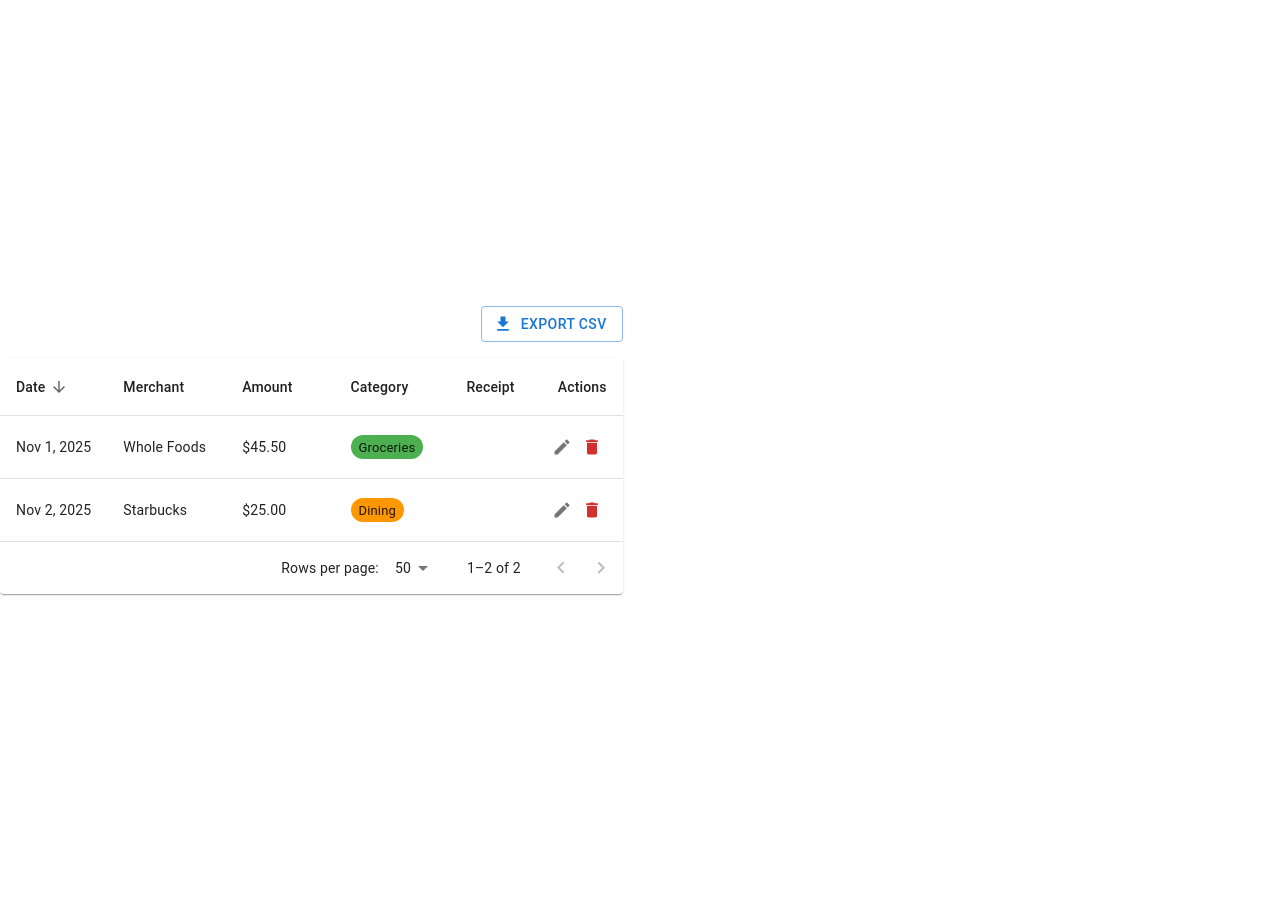
Scenario: ExpenseList › handles delete button click and confirmation
Expected: the text "Whole Foods" is shown, [107, 416, 226, 479]
// Click delete button
Click the button titled "Delete expense" in the row of "Nov 1, 2025" at (592, 447), box [577, 432, 607, 462]
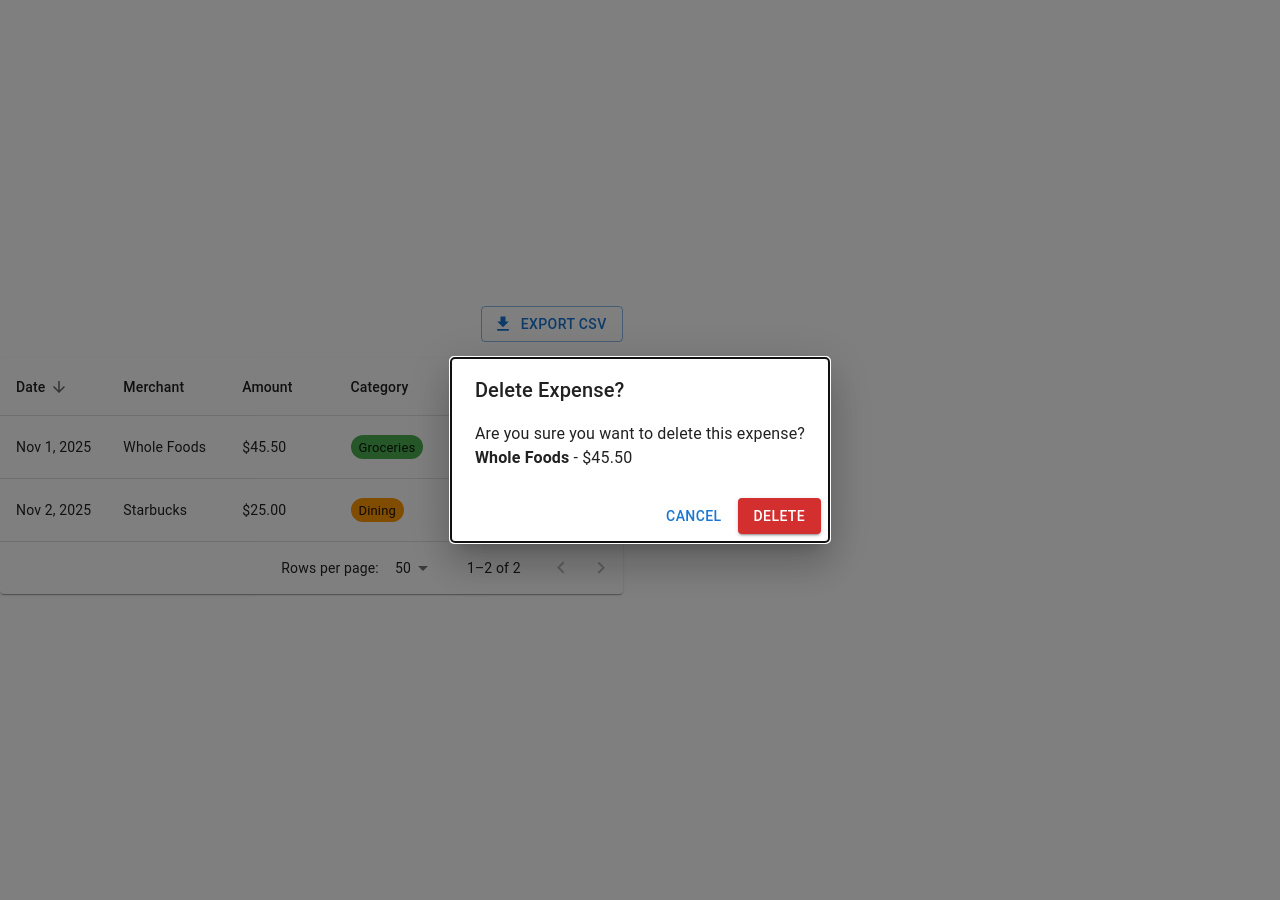
Expected: the heading "Delete Expense?" is shown, [475, 378, 624, 402]
Expected: the text "Are you sure you want to delete this expense" is shown, [475, 424, 805, 443]
